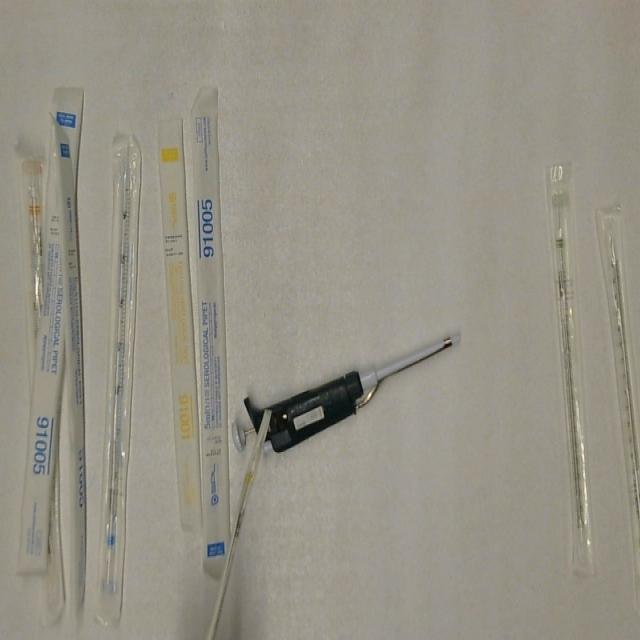Serelogical Pipet 1 mL: (155, 114, 204, 539), (201, 406, 276, 640)
Serelogical Pipet 10 mL: (19, 150, 52, 402)
Serelogical Pipet 2 mL: (543, 158, 600, 584)
Serelogical Pipet 5 mL: (16, 86, 86, 578), (95, 135, 144, 628), (187, 84, 233, 585), (49, 112, 92, 623)
Single Channel Pipettor: (229, 325, 473, 459)
